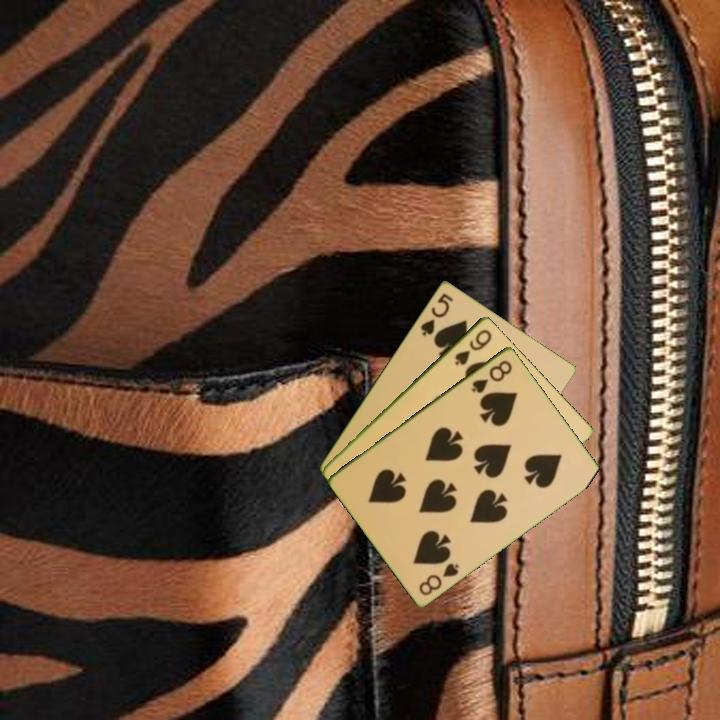5s: (417, 289, 456, 339)
8s: (467, 356, 515, 396), (415, 559, 462, 598)
9s: (451, 325, 495, 368)
